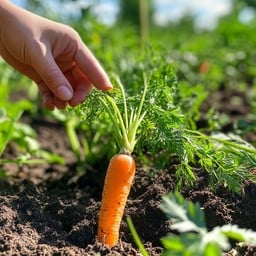carrot: (97, 100, 183, 246)
